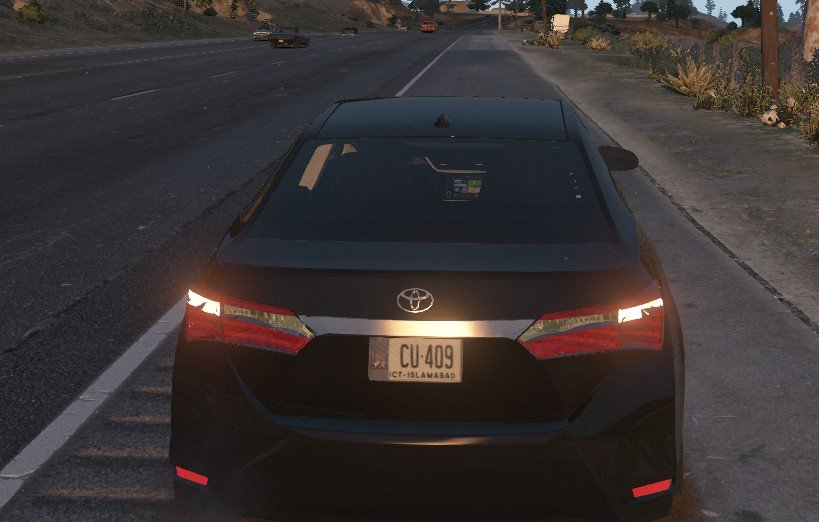Number Plate (Car): (368, 337, 460, 379)
